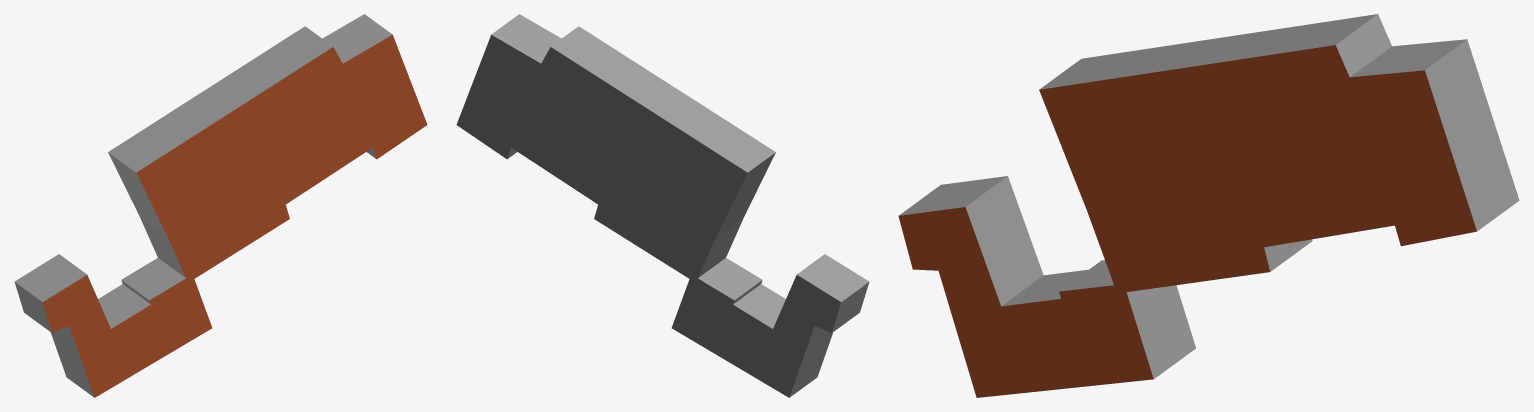
The model's file is construction_3835_assumed_A_Casa_h6m.obj.
3 views of the same model, side by side, from view 1: azimuth 30°, elevation 25°; view 2: azimuth 150°, elevation 25°; view 3: azimuth 330°, elevation 25° (orthographic). The views are drawn at different scales.
Visible parts, largest first — view 1: construction_3835_assumed_A_Casa; view 2: construction_3835_assumed_A_Casa; view 3: construction_3835_assumed_A_Casa.
Part boxes in pixels (x1,y1,x2,y2): construction_3835_assumed_A_Casa: [14, 14, 427, 397]; construction_3835_assumed_A_Casa: [456, 14, 869, 397]; construction_3835_assumed_A_Casa: [898, 14, 1519, 397].
Bounding box in the file's own units: 47.25 × 34.37 × 6.
